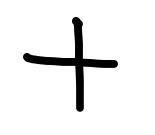plus: (22, 15, 118, 110)
